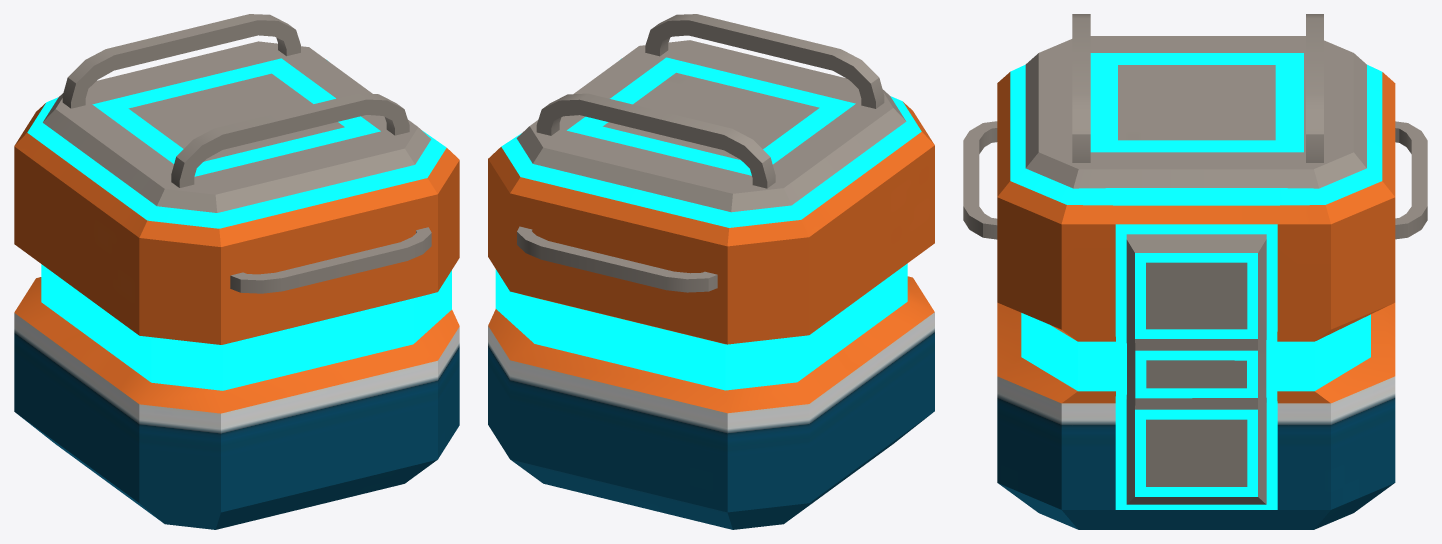
The model's file is SmallBox.fbx.
The picture shows the model from 3 angles, left to right: view 1: azimuth 30°, elevation 25°; view 2: azimuth 150°, elevation 25°; view 3: azimuth 270°, elevation 25°; orthographic projection. The views are drawn at different scales.
Visible parts, largest first — view 1: caixaBomb; view 2: caixaBomb; view 3: caixaBomb.
Boxes of the visible parts, x1=… form: caixaBomb: x1=14, y1=14, x2=459, y2=529; caixaBomb: x1=488, y1=14, x2=934, y2=529; caixaBomb: x1=963, y1=14, x2=1427, y2=529.
Size of the model in its own units: 56.3 by 60.69 by 62.72.
